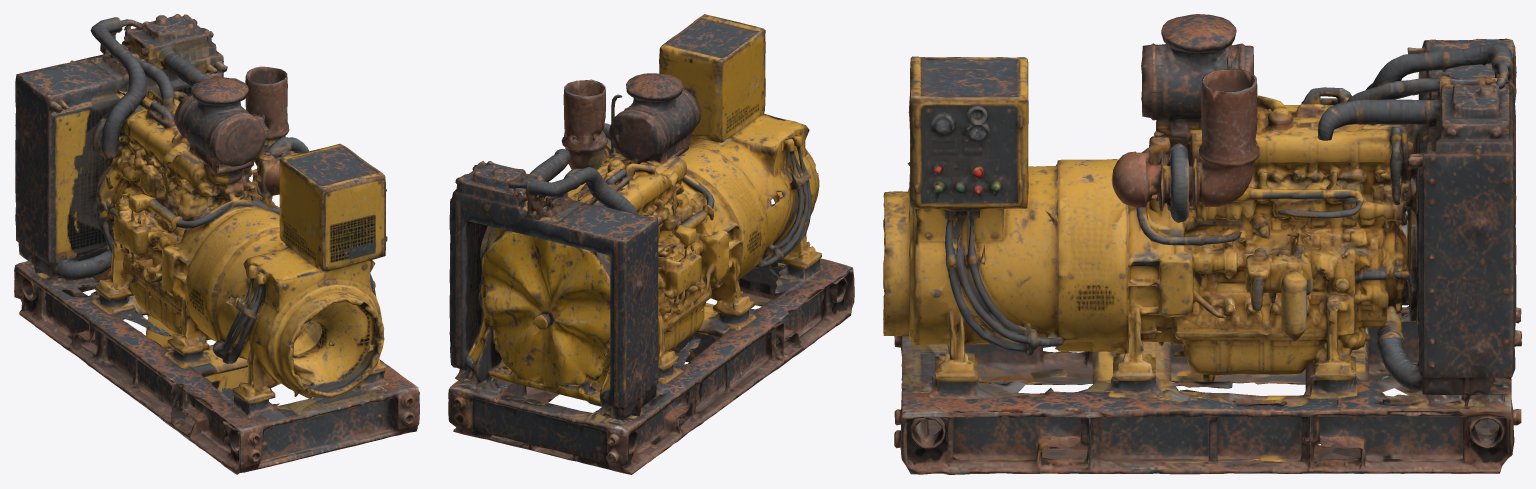
The model's file is Generator.fbx.
The picture shows the model from 3 angles, left to right: view 1: azimuth 30°, elevation 25°; view 2: azimuth 150°, elevation 25°; view 3: azimuth 270°, elevation 25°; orthographic projection. The views are drawn at different scales.
Parts seen in each view (by area): view 1: texture_mapping; view 2: texture_mapping; view 3: texture_mapping.
Part boxes in pixels (box(x1,y1,x2,y2)): texture_mapping: box(14, 14, 419, 474); texture_mapping: box(448, 14, 854, 474); texture_mapping: box(883, 14, 1521, 474).
Size of the model in its own units: 0.4482 by 0.9997 by 0.6929.
1 material, 1 textured.
